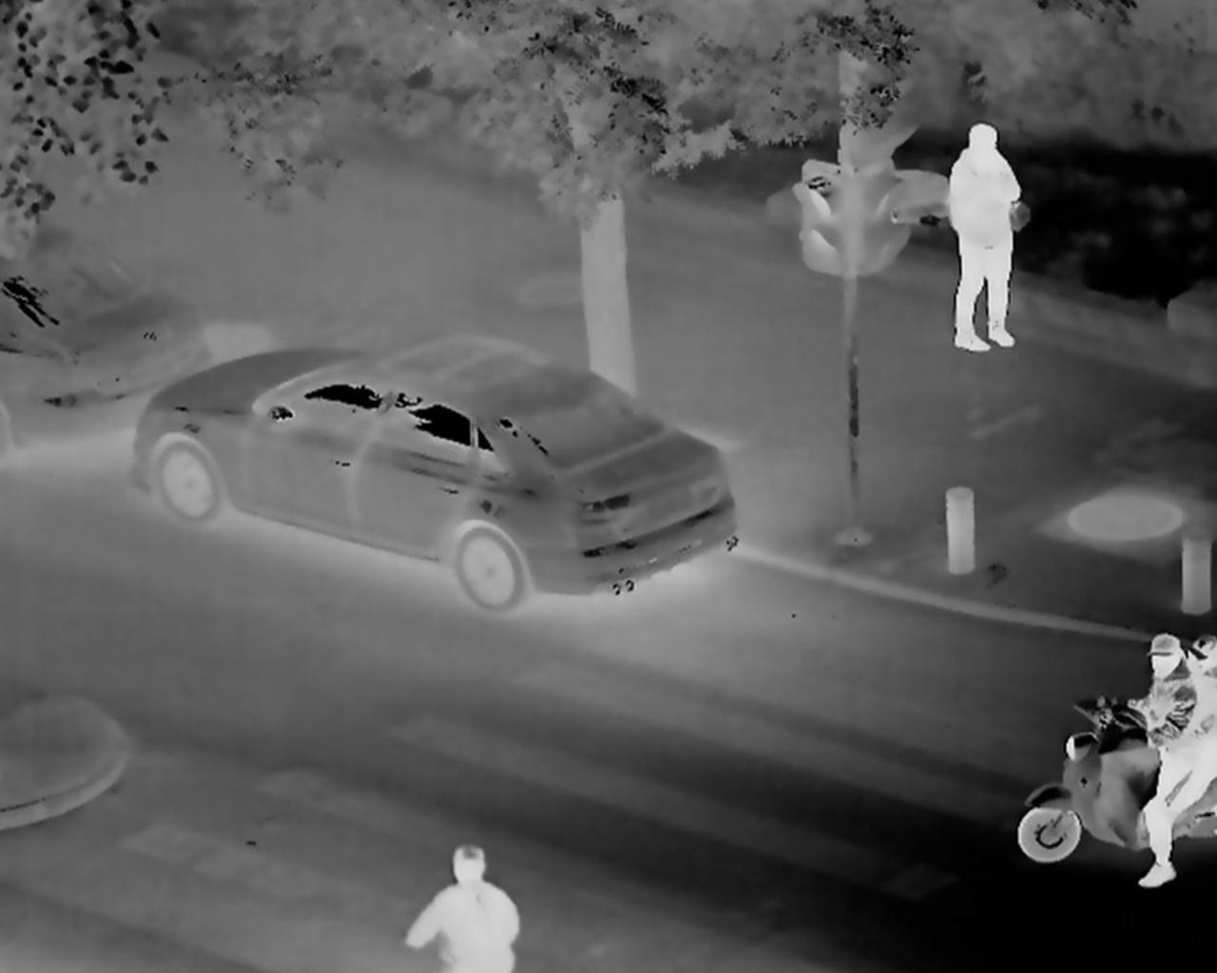person: (1120, 629, 1217, 887), (929, 116, 1019, 361), (409, 838, 517, 973)
